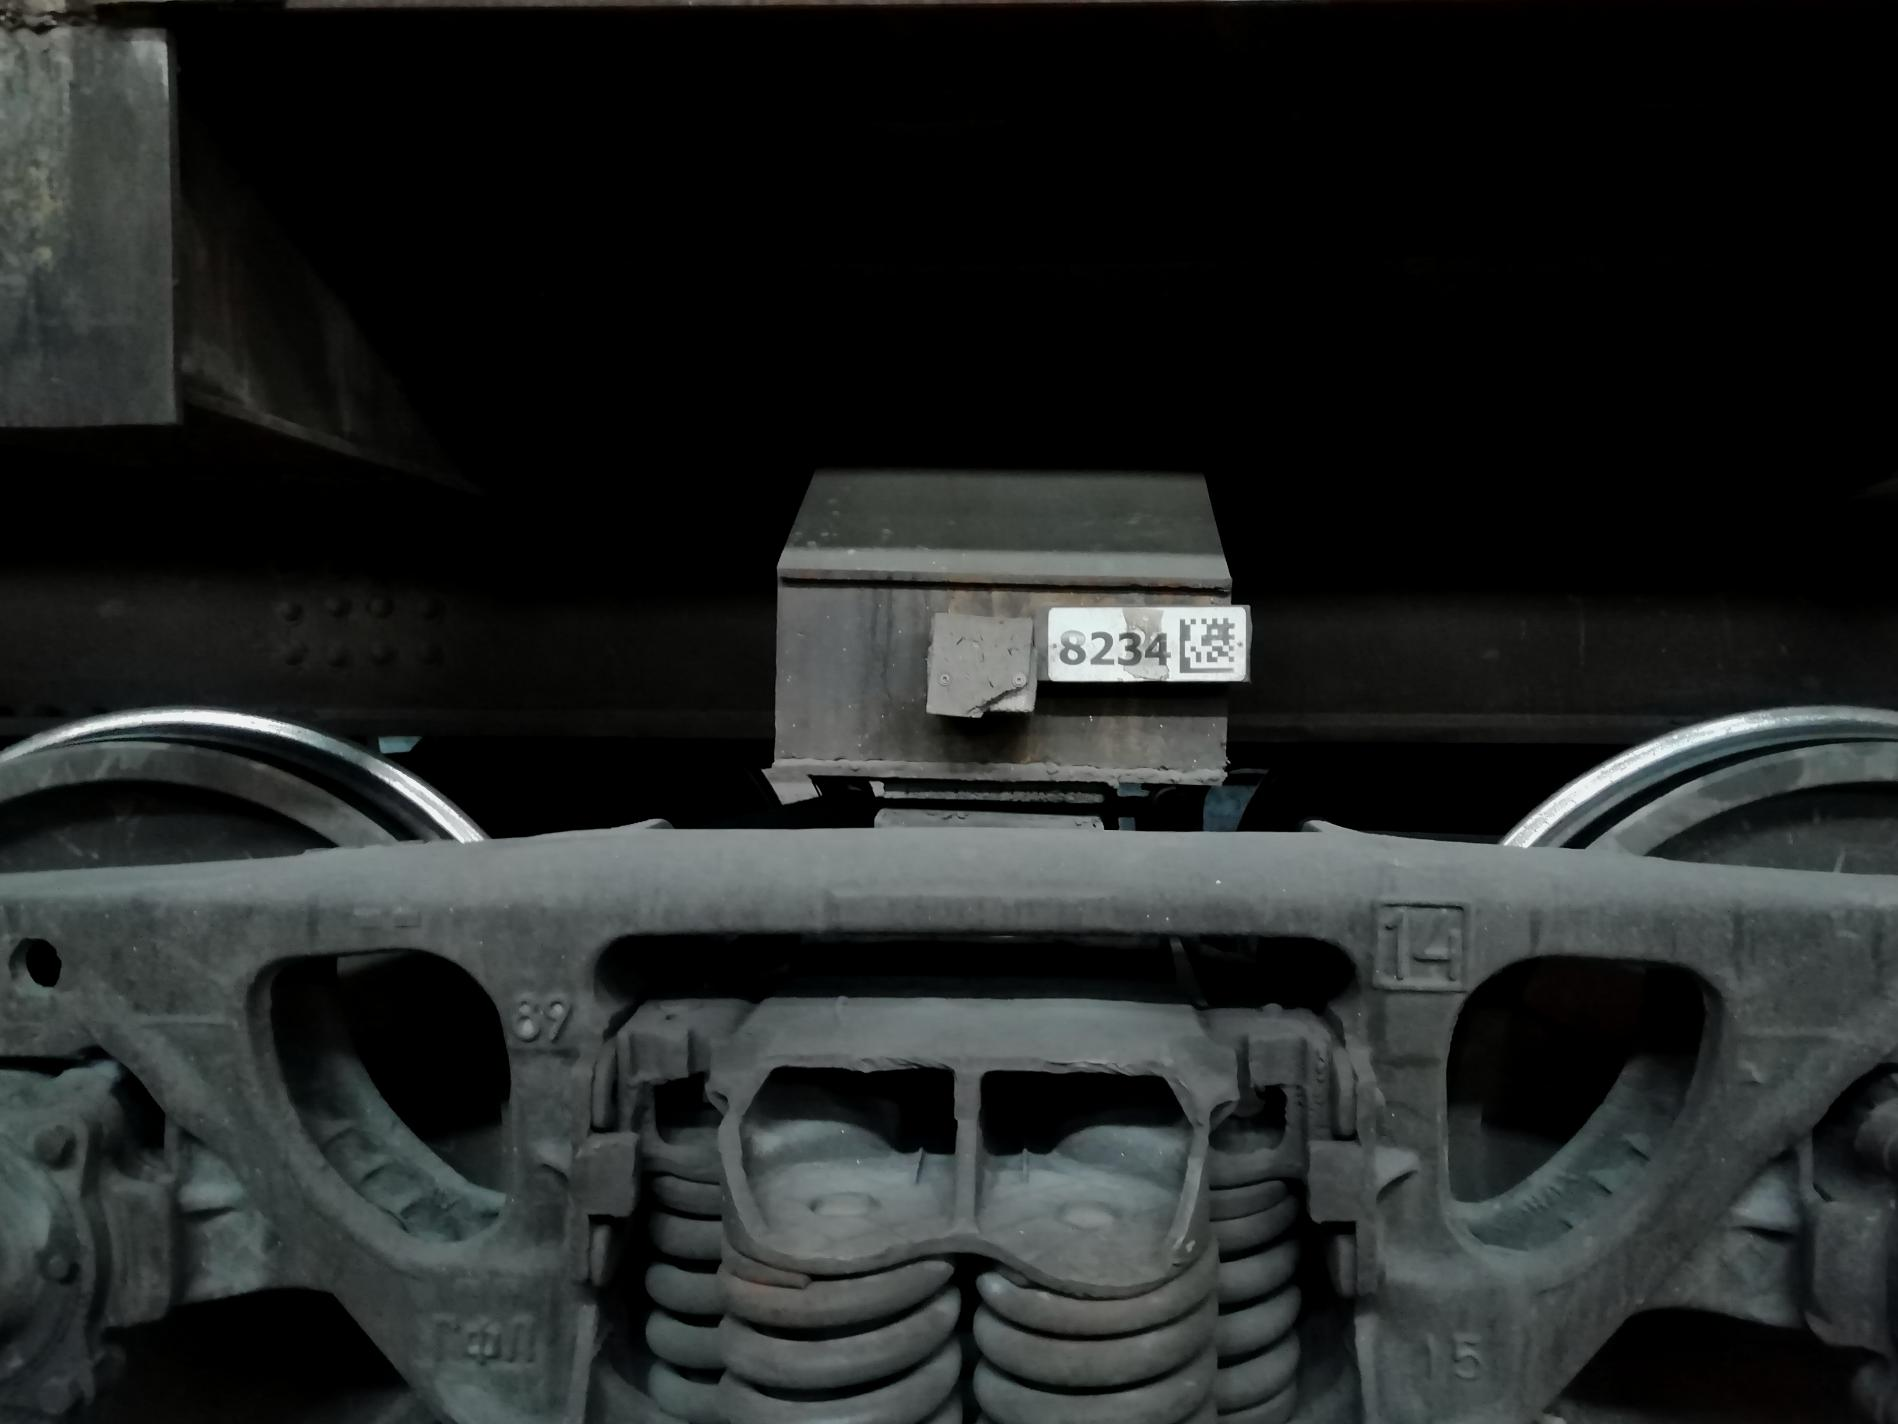data matrix: (1171, 606, 1253, 687)
